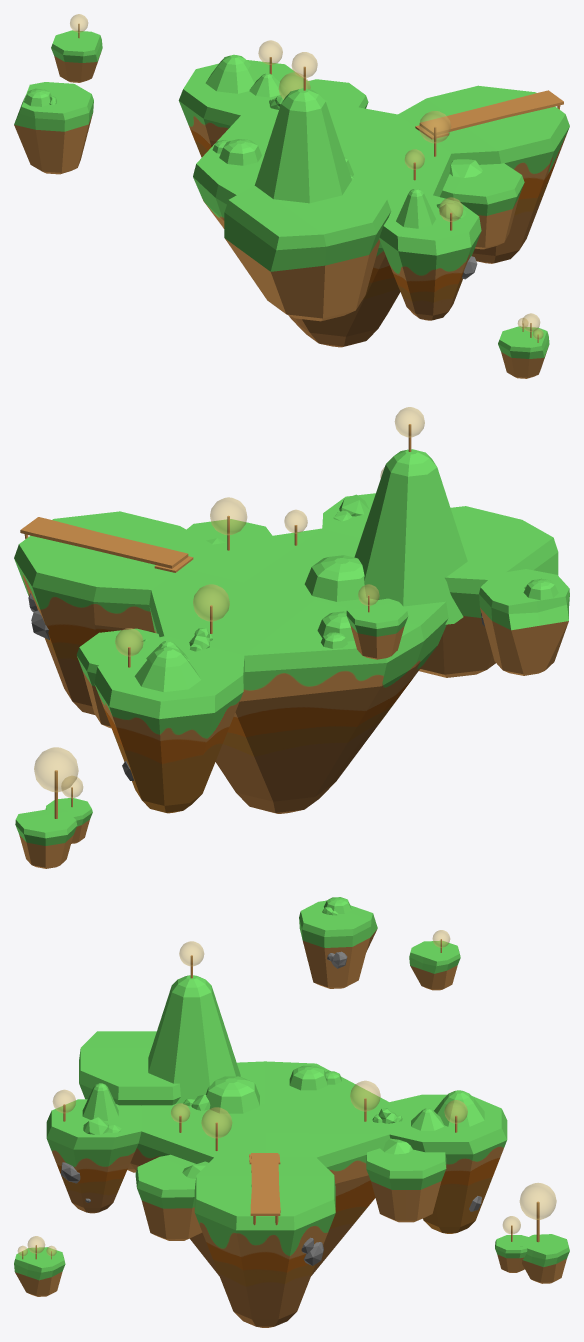
The model's file is isla.obj.
3 renders of one model, top to bottom at view 1: azimuth 30°, elevation 25°; view 2: azimuth 150°, elevation 25°; view 3: azimuth 270°, elevation 25°, orthographic. The views are drawn at different scales.
Parts seen in each view (by area): view 1: itext01, transparent; view 2: itext01, transparent; view 3: itext01, transparent.
Boxes of the visible parts, x1,y1,x2,y2 form: itext01: (14,23,569,378); transparent: (70,14,543,339); itext01: (14,424,569,868); transparent: (34,407,424,798); itext01: (14,897,569,1327); transparent: (17,930,556,1256).
Bounding box in the file's own units: 21.99 × 13.97 × 21.95.
